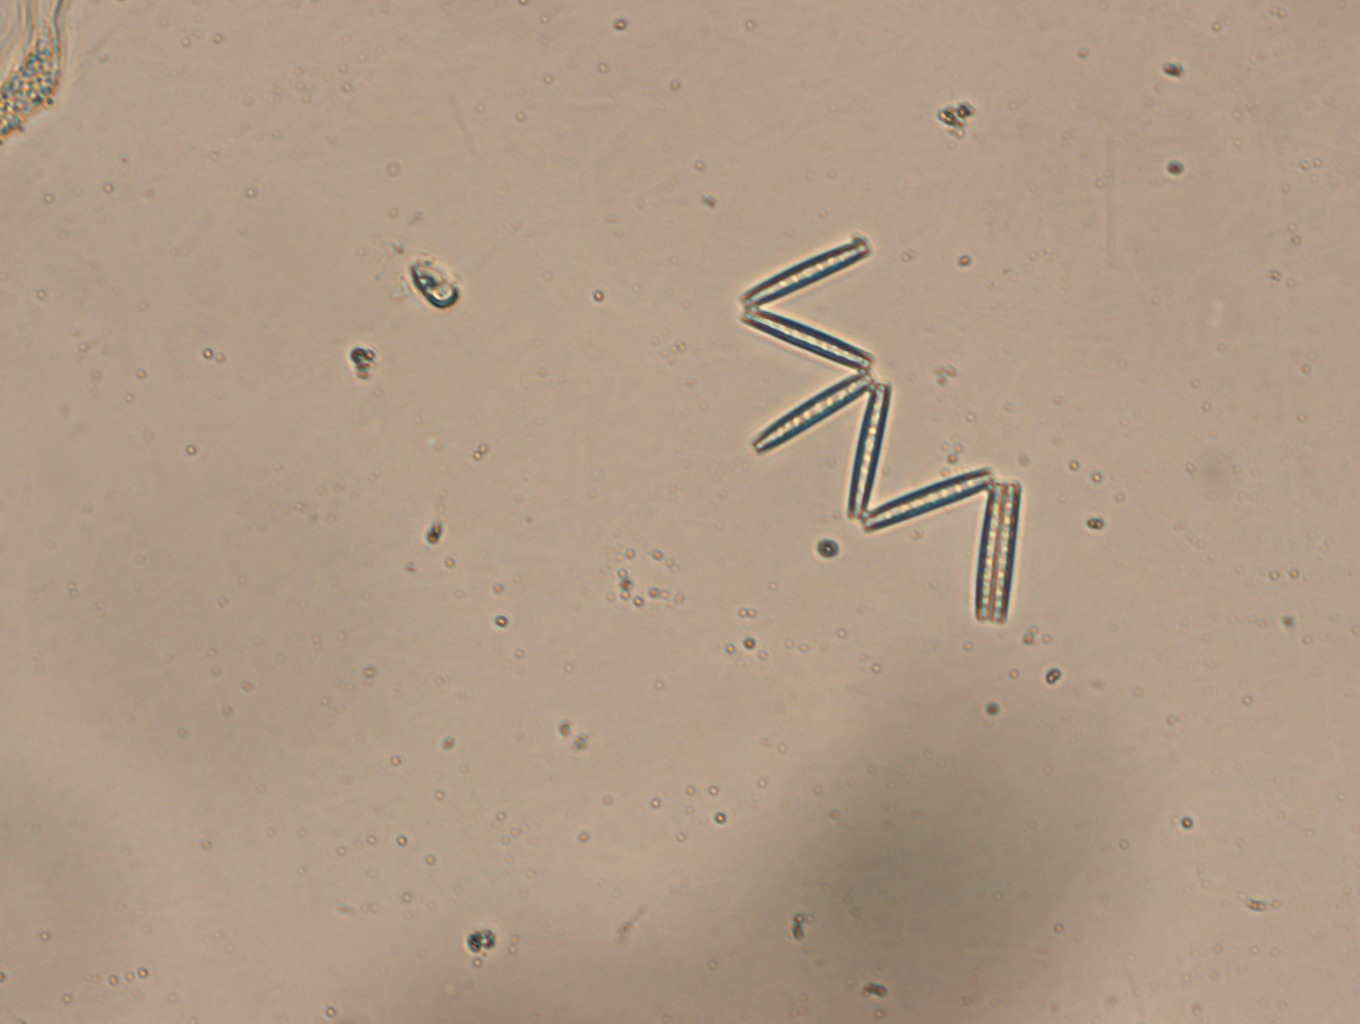thalassionema nitzschioides: (740, 241, 1022, 625)
